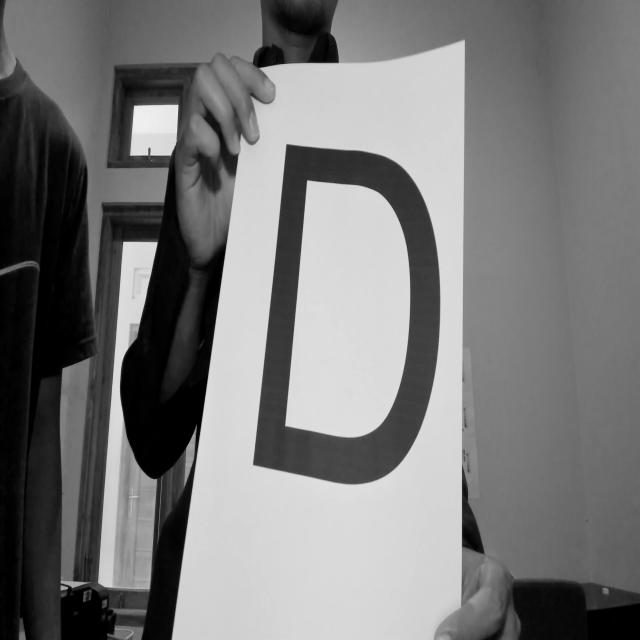d: (252, 112, 445, 528)
